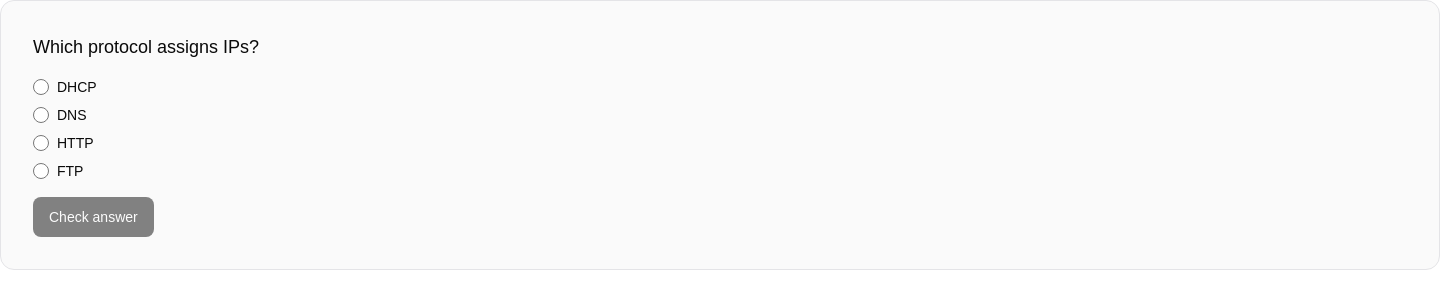
QuestionCard: multiple choice › disables Check answer until a choice is made
The image size is (1440, 287).
Expected: the button "Check answer" is disabled, [33,197,154,237]
Click the radio button labelled "DHCP" at (41, 87), box [33,79,49,95]
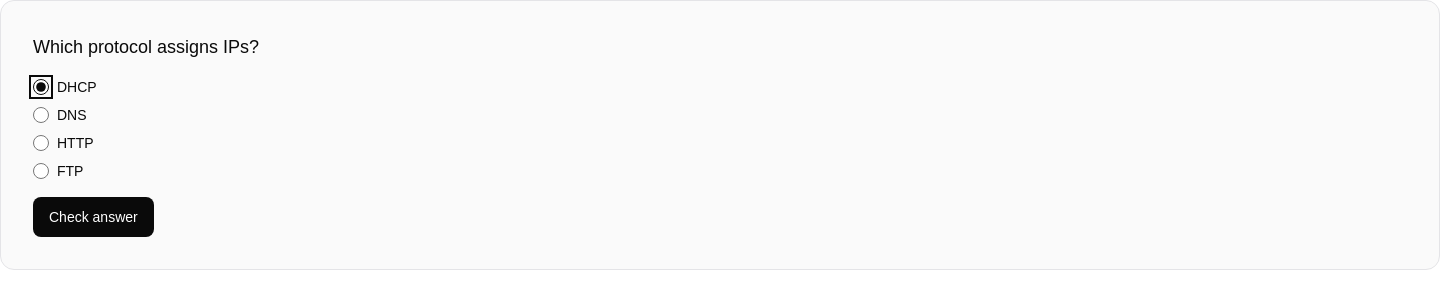
Result: the button "Check answer" is enabled at [33,197,154,237]
